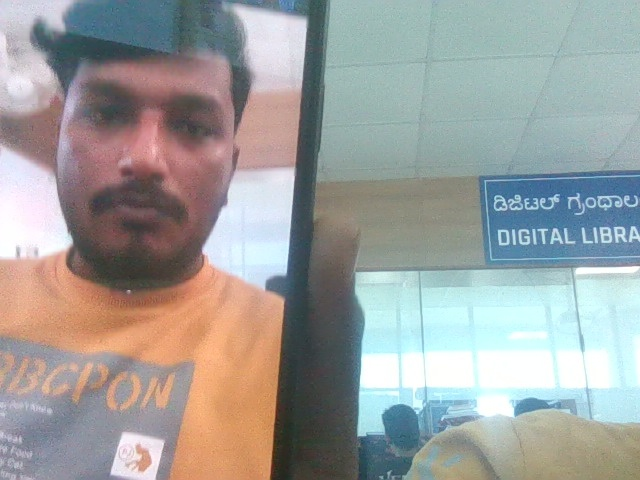fake: (22, 0, 274, 357)
